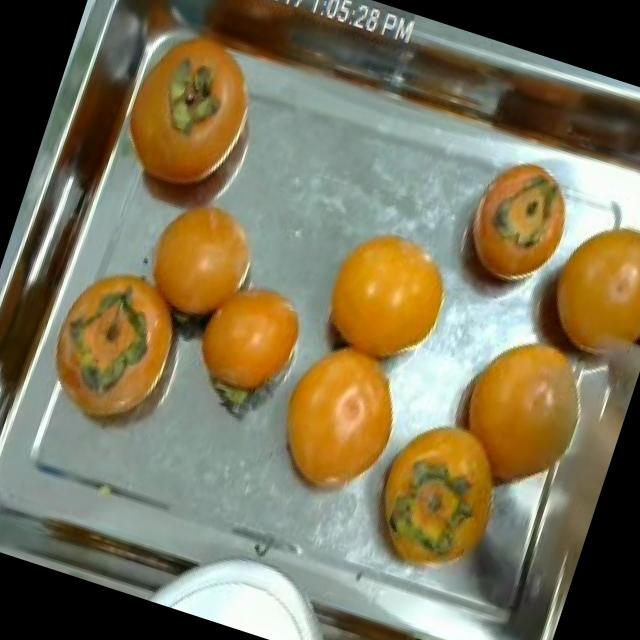Fruit: (418, 298, 608, 525), (342, 392, 532, 604), (102, 9, 280, 228), (294, 200, 480, 400), (247, 316, 426, 522), (432, 131, 598, 331), (170, 257, 324, 432), (124, 178, 278, 348), (517, 185, 640, 392)
